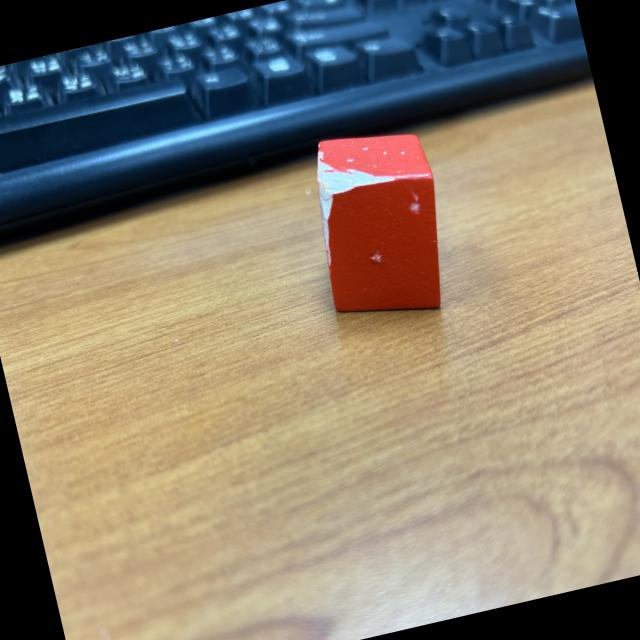broken: (296, 116, 462, 330)
